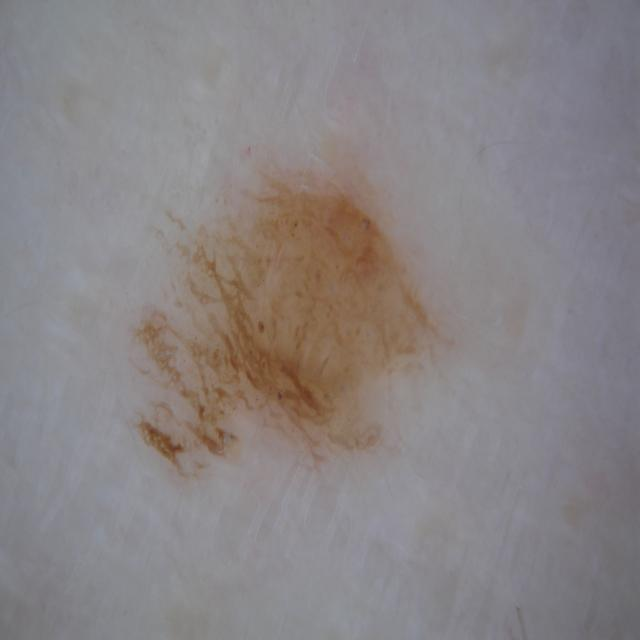Skin-Cancer Nevus: (38, 35, 590, 585)
